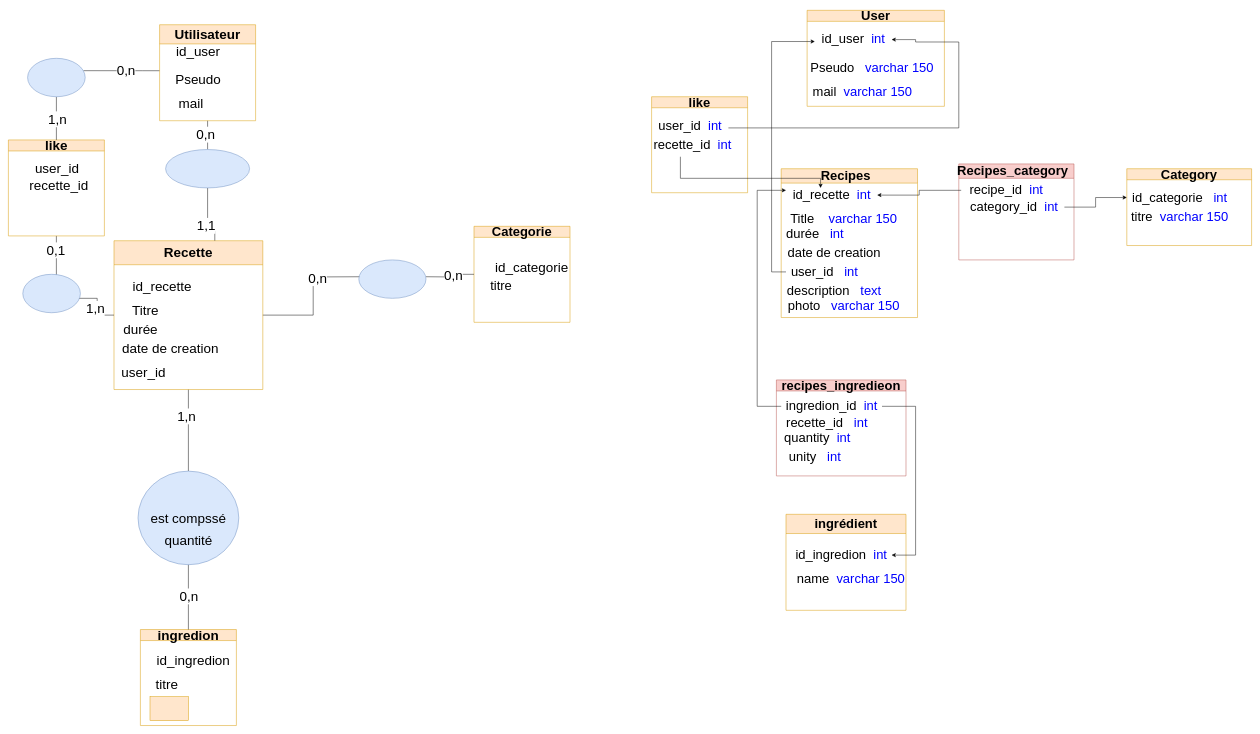
Image size: 1260x734. Some labels were removed from this diagram. The centre of each missing label's shape, as x and y in pixels:
aimer: the point at 56,77
ajouter: the point at 51,293
Appatien: the point at 392,278
creé par: the point at 207,168
unité: the point at 169,708
